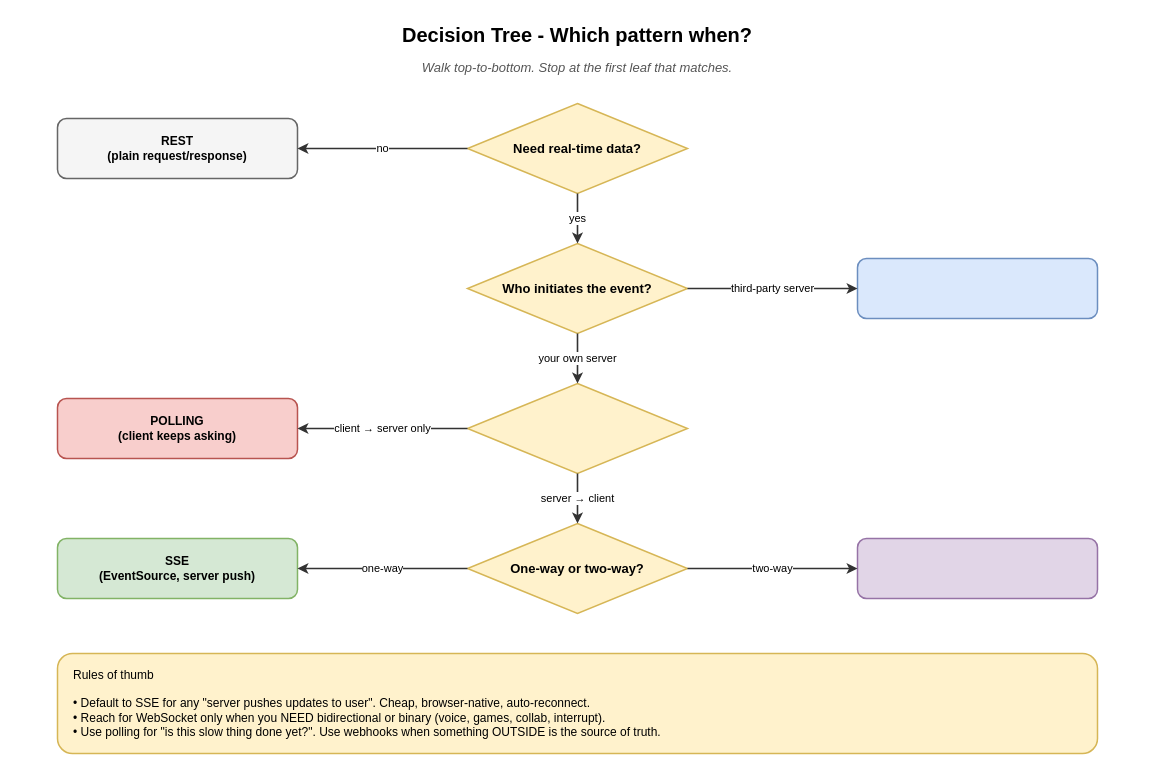
Some shapes in this 1154 by 771 pixel diagram are drawn without their labels. The shapes that lost their labels are listed below. From the top down, each one's centre as x and y in pixels, then its label:
[977,288]: WEBHOOK (3rd-party POSTs to you)
[577,428]: Direction of data?
[977,568]: WEBSOCKET (full-duplex)
